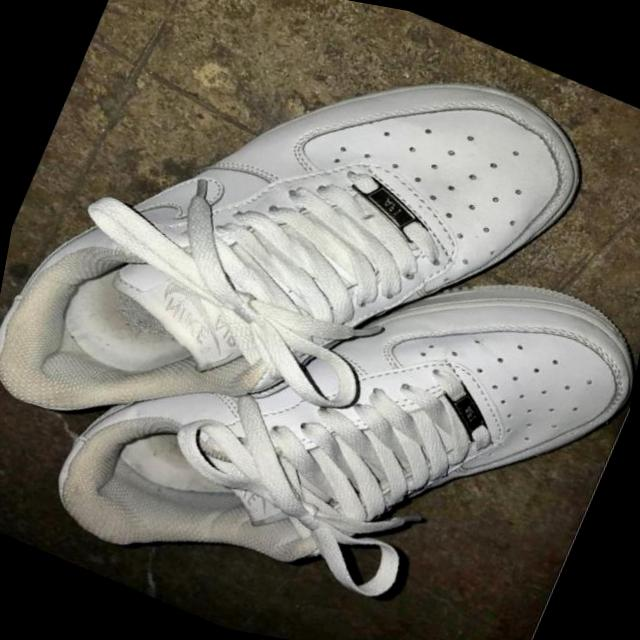nike_fake_airforce: (0, 0, 621, 588), (26, 120, 640, 640)
